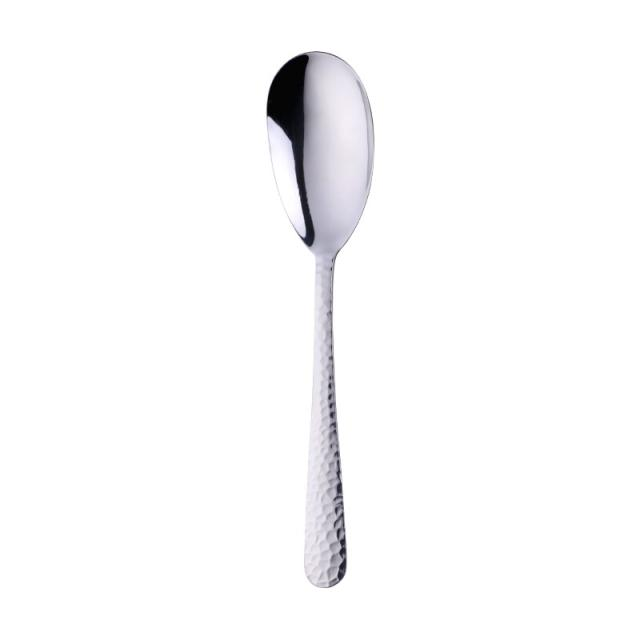spoon: (234, 38, 392, 590)
